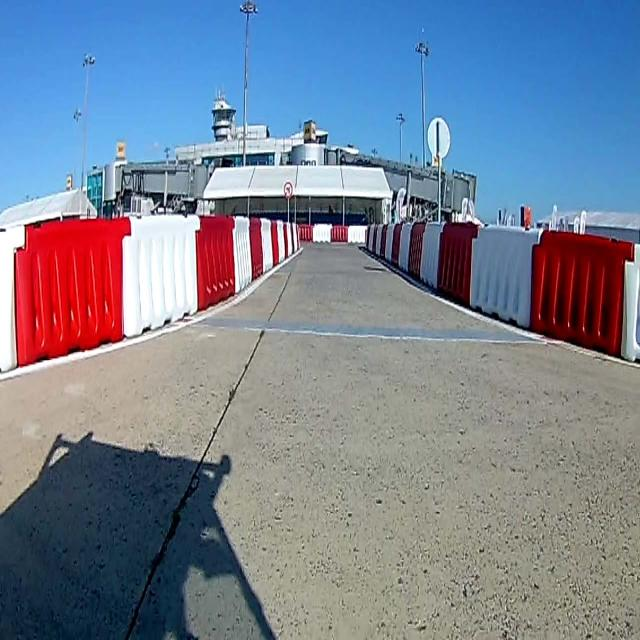soladonulmez: (284, 180, 292, 198)
